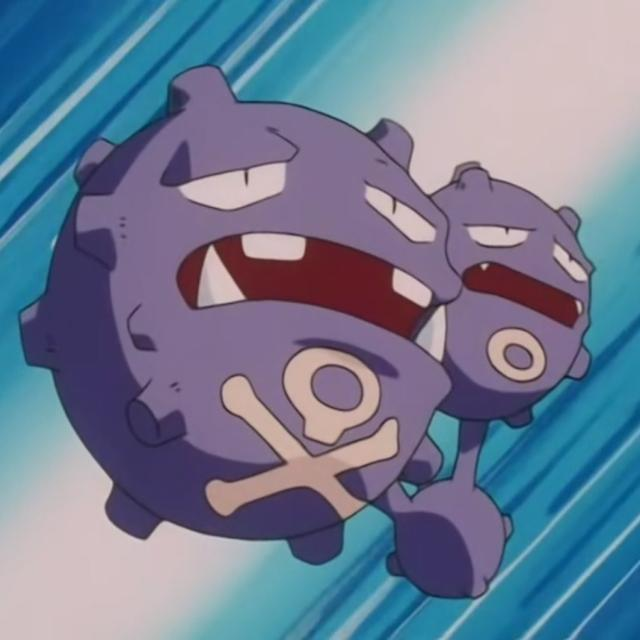Weezing: (42, 61, 610, 556)
